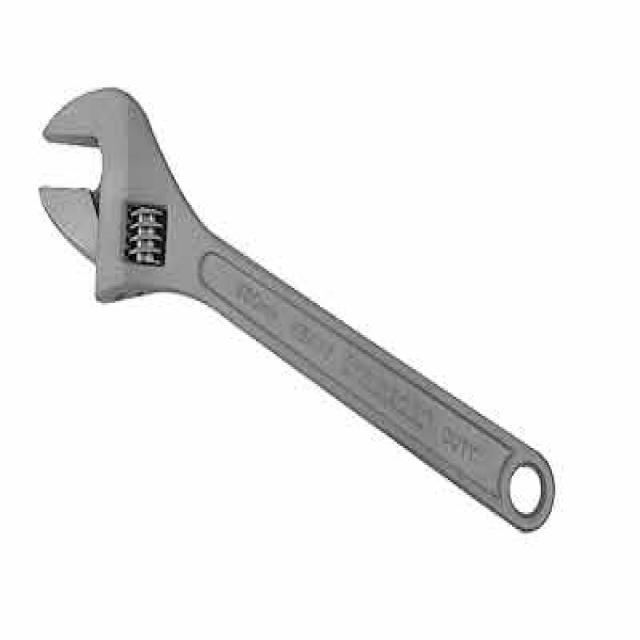wrench: (33, 80, 561, 538)
